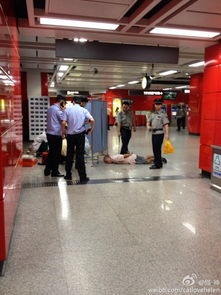falling: (96, 147, 161, 166)
